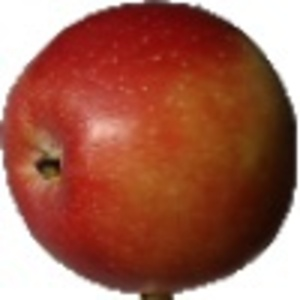maçã braeburn: (1, 4, 299, 292)
